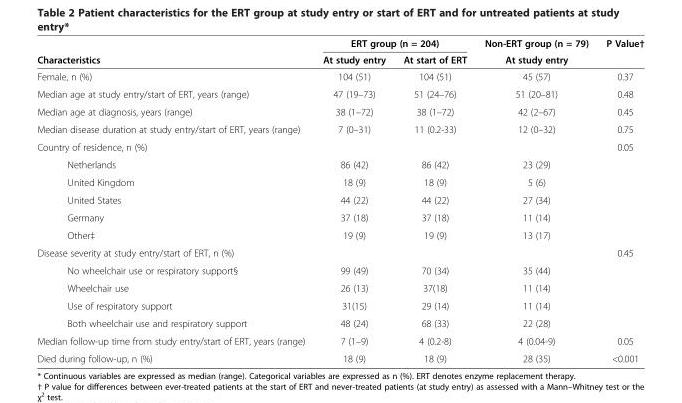table: (36, 37, 643, 363)
table column: (36, 37, 313, 363), (475, 37, 596, 363), (393, 37, 475, 363), (313, 37, 393, 363), (596, 37, 643, 363)
table column header: (36, 37, 643, 67)
table row: (36, 84, 643, 102), (36, 102, 643, 120), (36, 137, 643, 155), (36, 155, 643, 173), (36, 190, 643, 208), (36, 208, 643, 226), (36, 243, 643, 261), (36, 278, 643, 296), (36, 296, 643, 314), (36, 331, 643, 349), (36, 67, 643, 84), (36, 120, 643, 137), (36, 173, 643, 190), (36, 226, 643, 243), (36, 261, 643, 278), (36, 314, 643, 331), (36, 51, 643, 67), (36, 37, 643, 51), (36, 349, 643, 363)
table spanning cell: (36, 37, 313, 67), (475, 37, 596, 67), (313, 37, 475, 51), (596, 37, 643, 67)
